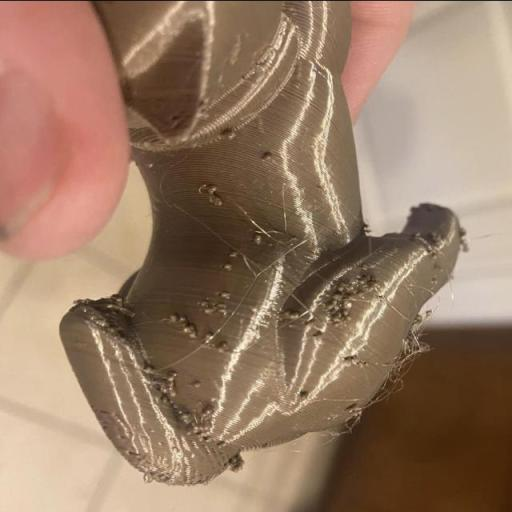blobs: (346, 400, 364, 418), (229, 455, 246, 472), (208, 194, 224, 210), (201, 330, 216, 345), (222, 126, 236, 142), (331, 309, 345, 325), (197, 296, 212, 310), (216, 288, 230, 302), (286, 308, 300, 322), (323, 300, 336, 314), (300, 388, 314, 401), (369, 276, 381, 291), (142, 362, 152, 379), (192, 378, 204, 392), (200, 406, 212, 420), (347, 356, 360, 368), (166, 370, 180, 381), (215, 340, 227, 352), (262, 152, 275, 163), (228, 247, 238, 261), (220, 305, 230, 318), (166, 386, 179, 396), (252, 234, 264, 244), (344, 300, 356, 310), (332, 290, 344, 300), (216, 300, 228, 310), (358, 260, 368, 270), (223, 261, 232, 272), (202, 306, 212, 315)
stringing: (404, 324, 424, 355), (320, 426, 342, 443), (392, 360, 410, 378), (380, 378, 398, 396), (344, 416, 358, 435)
